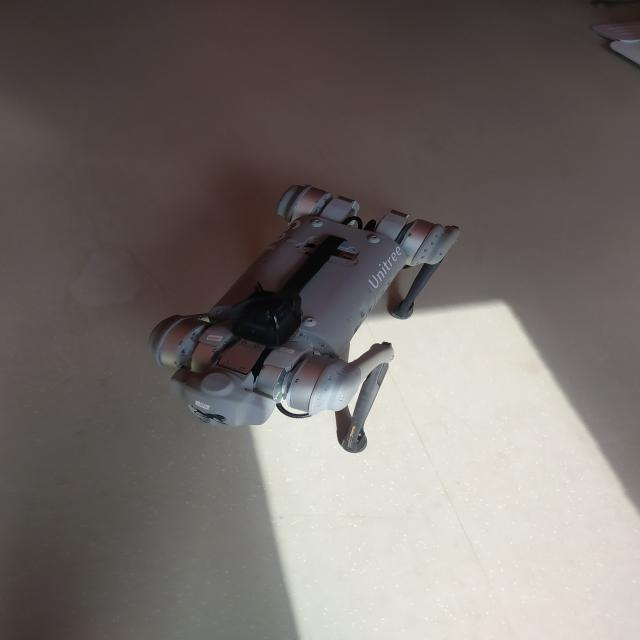unitree-go1-robot: (133, 174, 491, 460)
